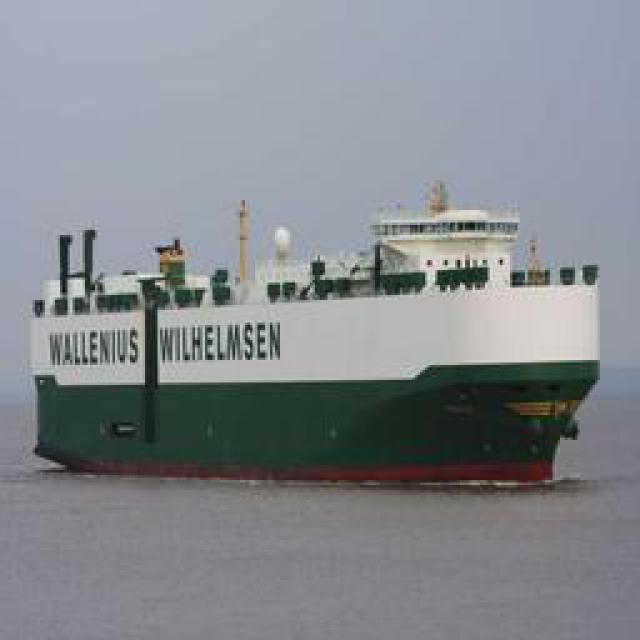Ship: (40, 199, 598, 492)
